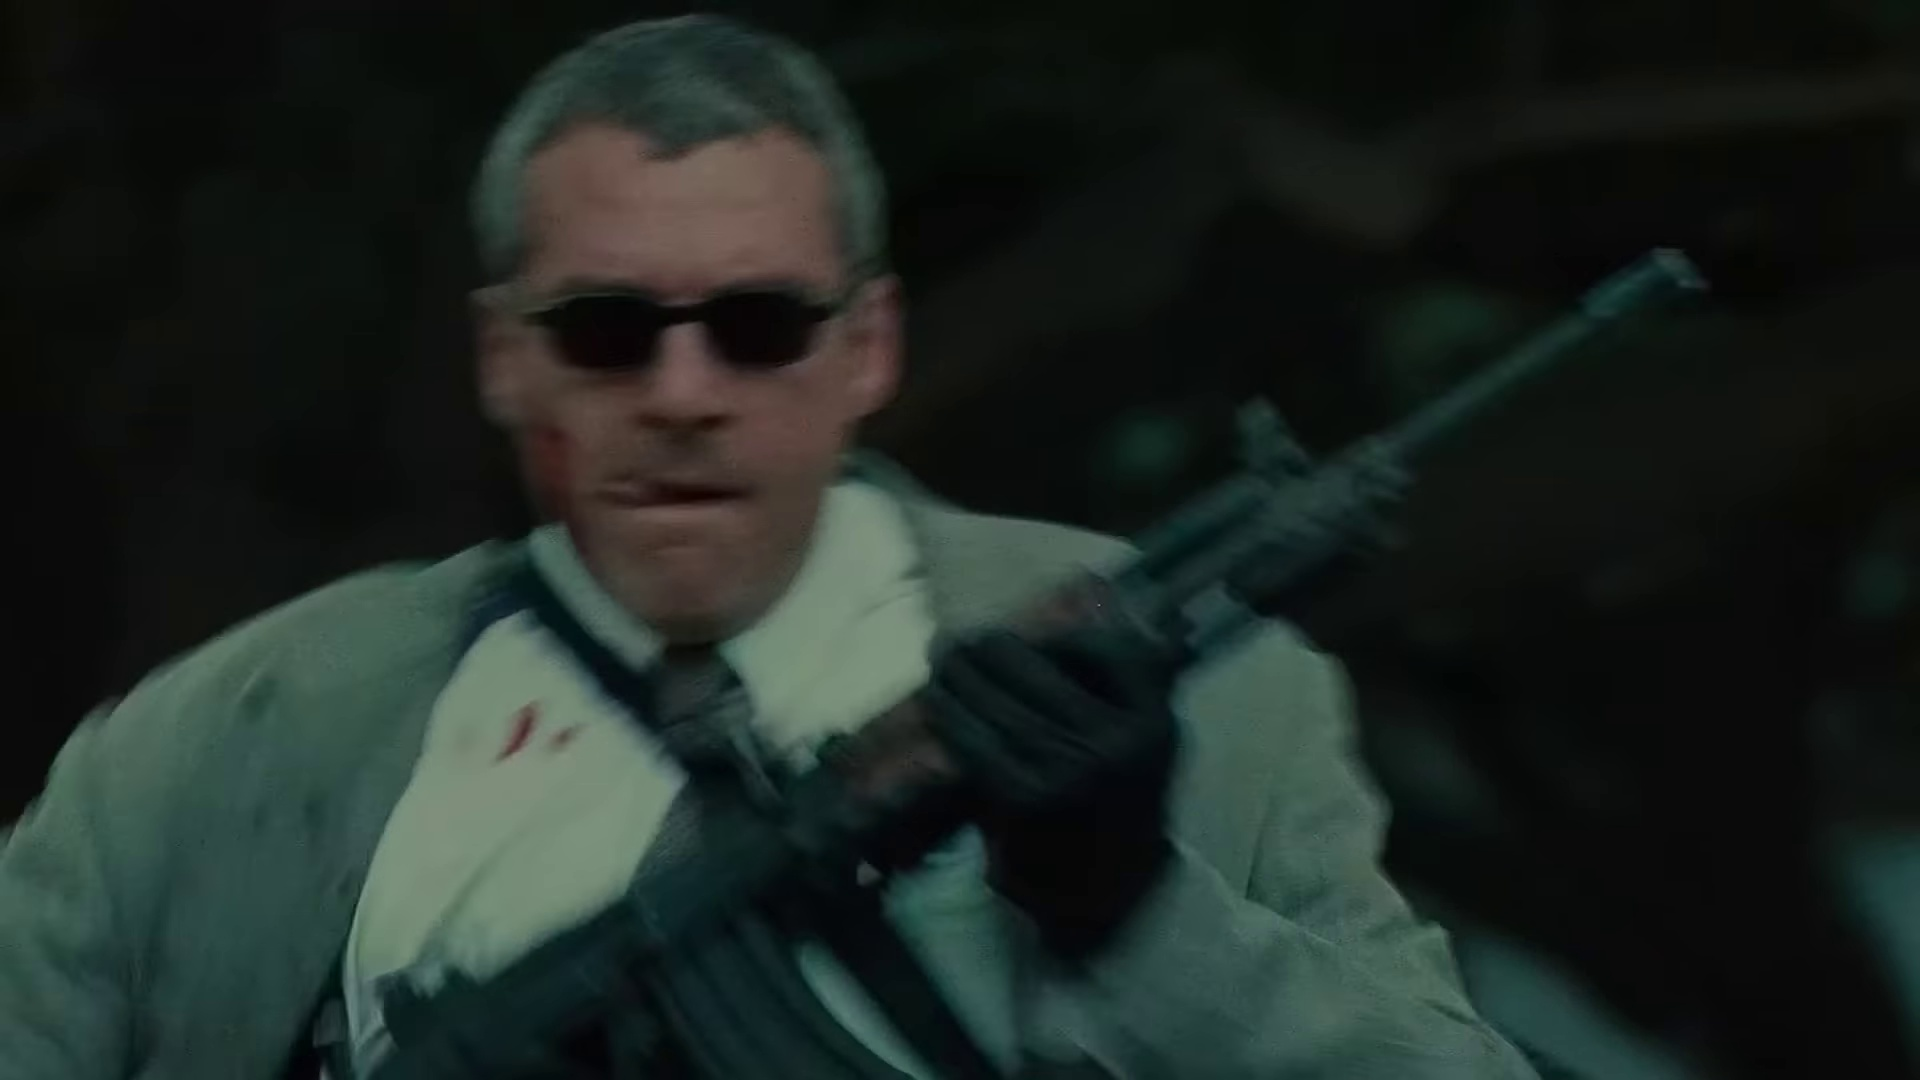gun: (353, 239, 1691, 1080)
p_w_gun: (0, 18, 1688, 1080)
